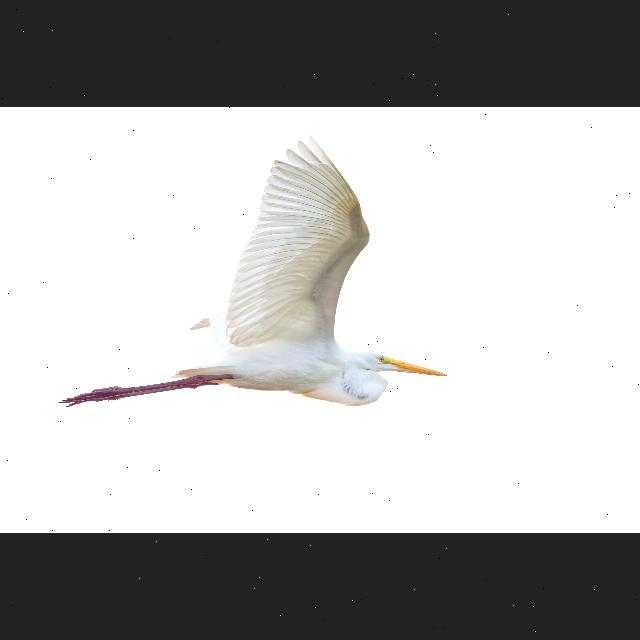egret: (58, 134, 452, 418)
